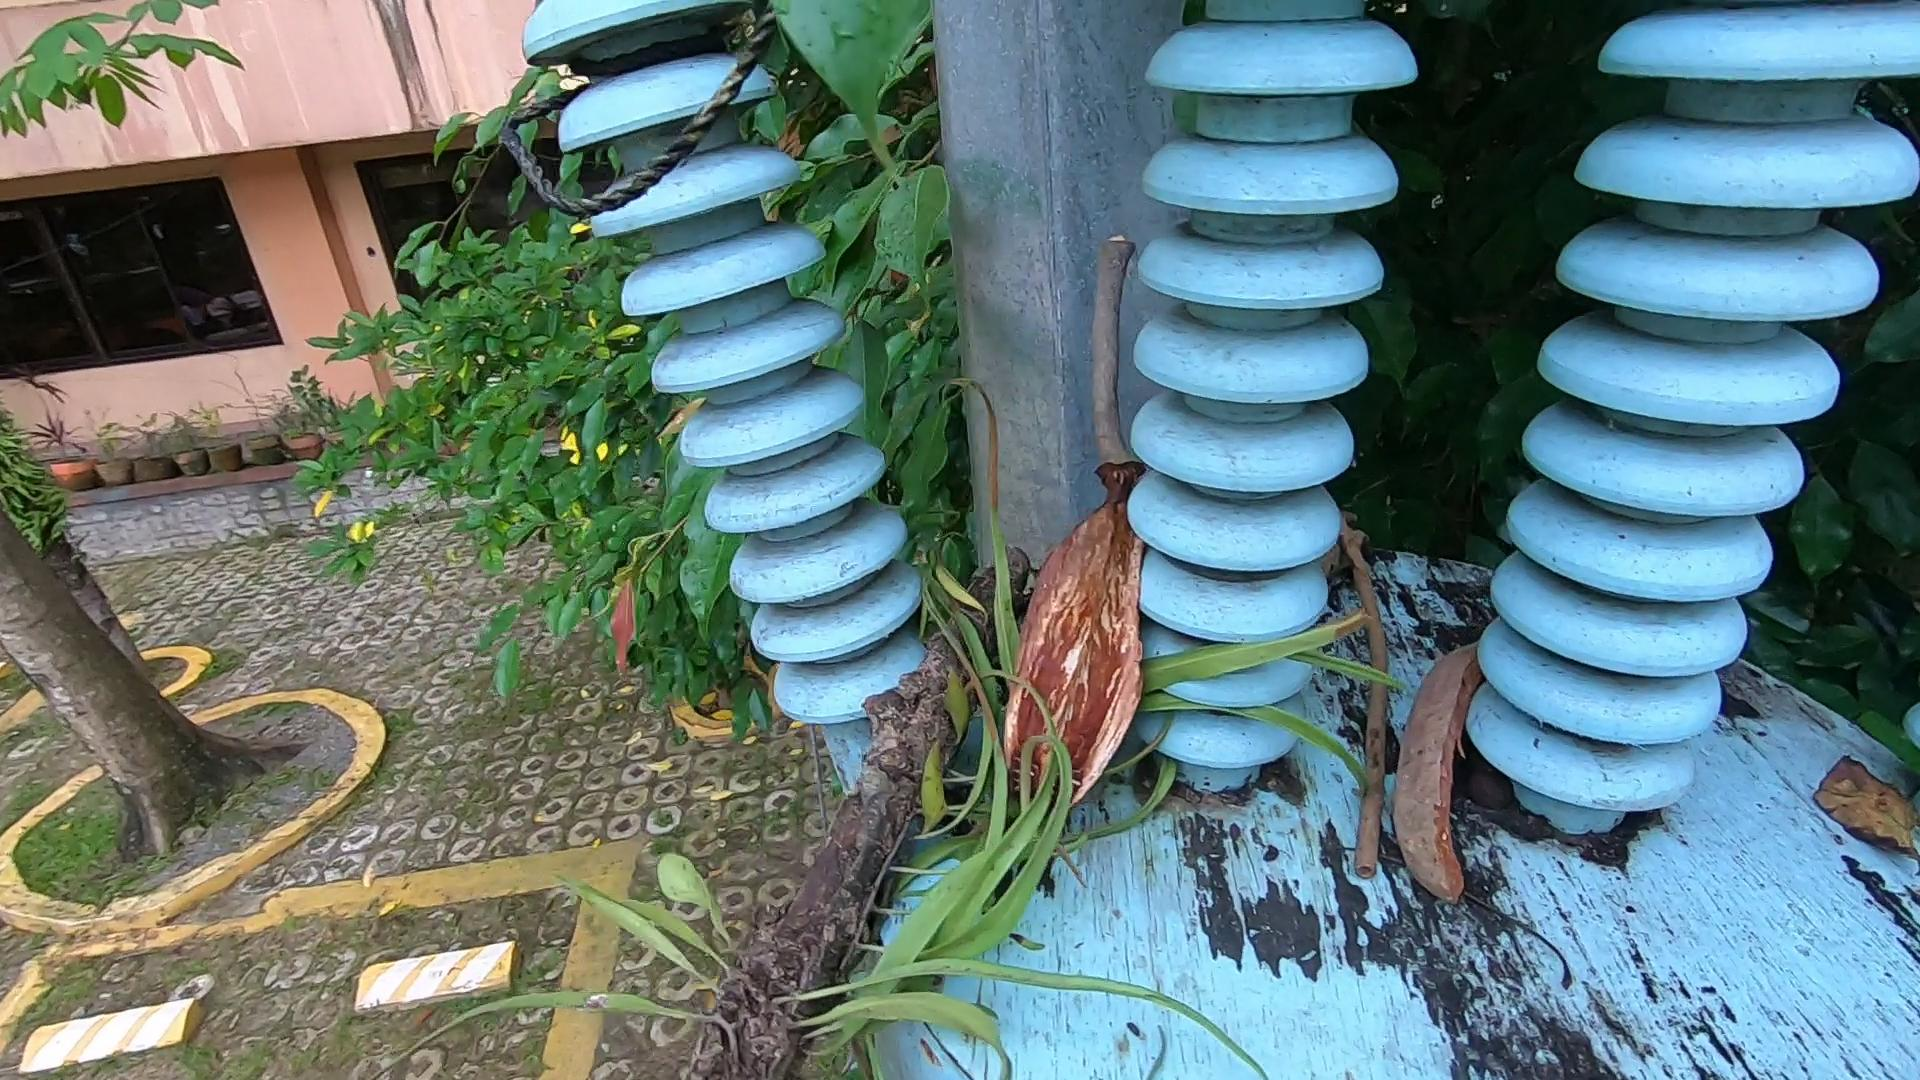branch with leaves: (392, 378, 1415, 1080)
leaf: (1812, 748, 1920, 856)
mahogany fruit: (1006, 469, 1174, 848), (1418, 564, 1501, 967)
tree branch: (1076, 223, 1178, 495), (1329, 495, 1393, 880)
